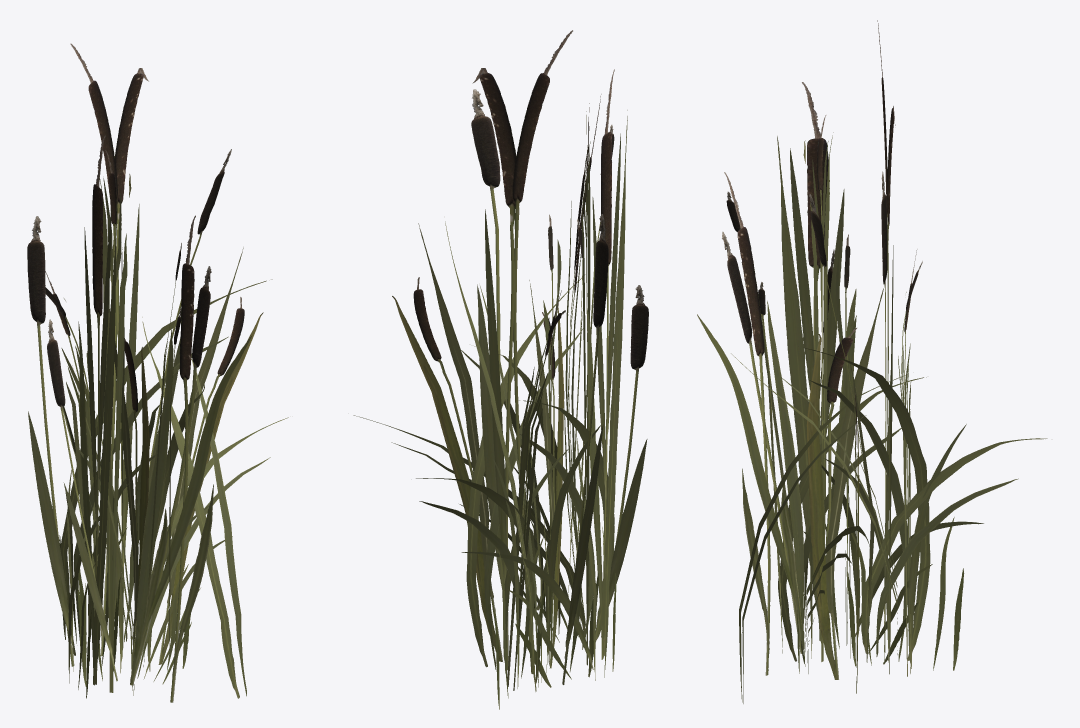
Rendered from SM_GrassPole_01.fbx.
3 renders of one model, left to right at view 1: azimuth 30°, elevation 25°; view 2: azimuth 150°, elevation 25°; view 3: azimuth 270°, elevation 25°, orthographic. The views are drawn at different scales.
Visible parts, largest first — view 1: SM_GrassPole_01; view 2: SM_GrassPole_01; view 3: SM_GrassPole_01.
Boxes of the visible parts, box(x1,y1,x2,y2) form: SM_GrassPole_01: box(27, 43, 288, 702); SM_GrassPole_01: box(353, 30, 648, 709); SM_GrassPole_01: box(697, 20, 1047, 703).
Bounding box in the file's own units: 127 × 141 × 265.
1 material, 1 textured.
